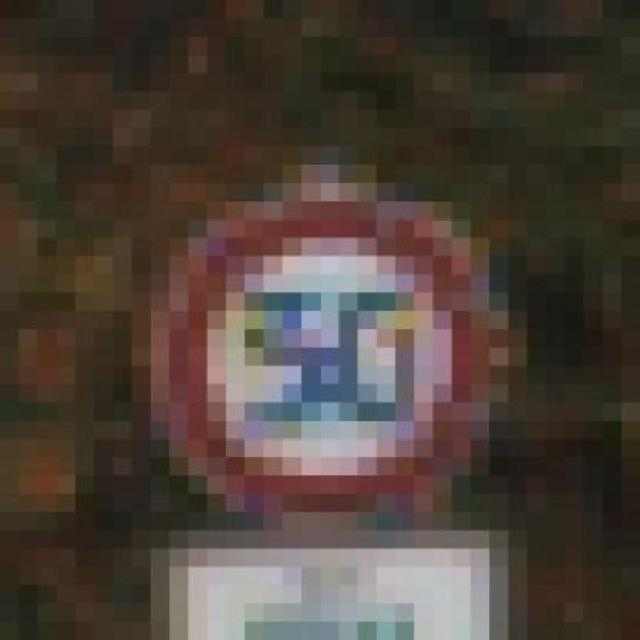forb_speed_over_50: (173, 202, 479, 516)
